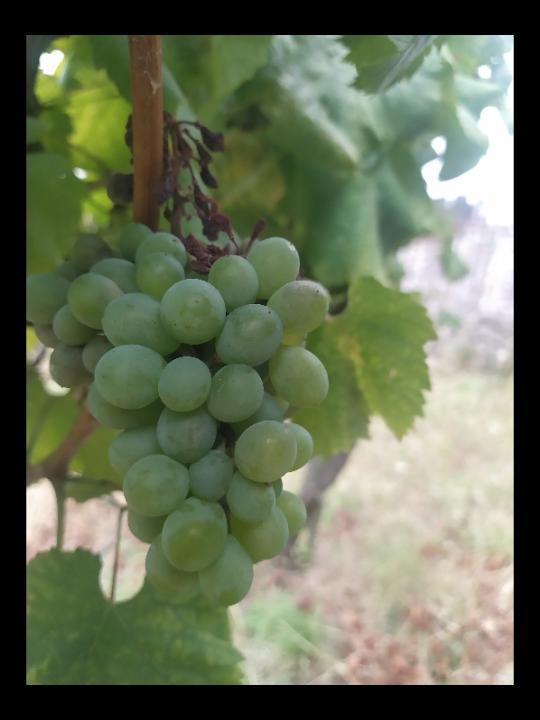grape: (26, 106, 335, 611)
